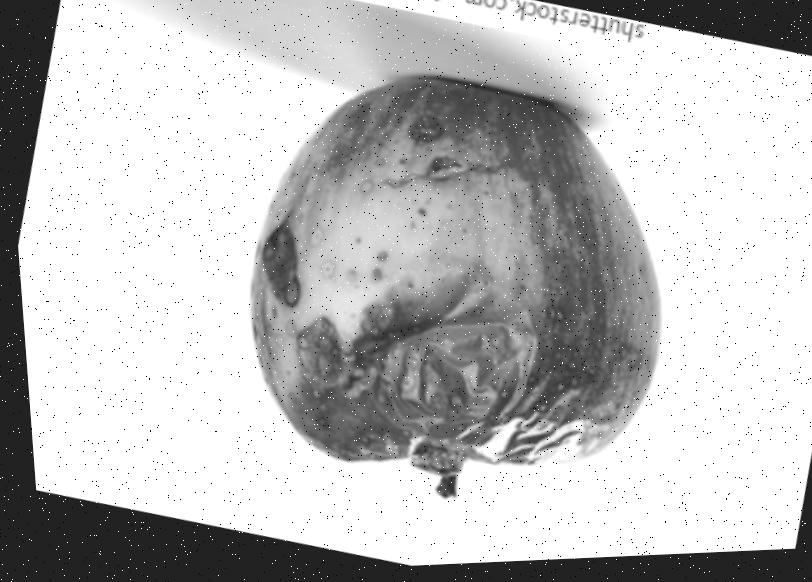ROT: (161, 2, 753, 550)
